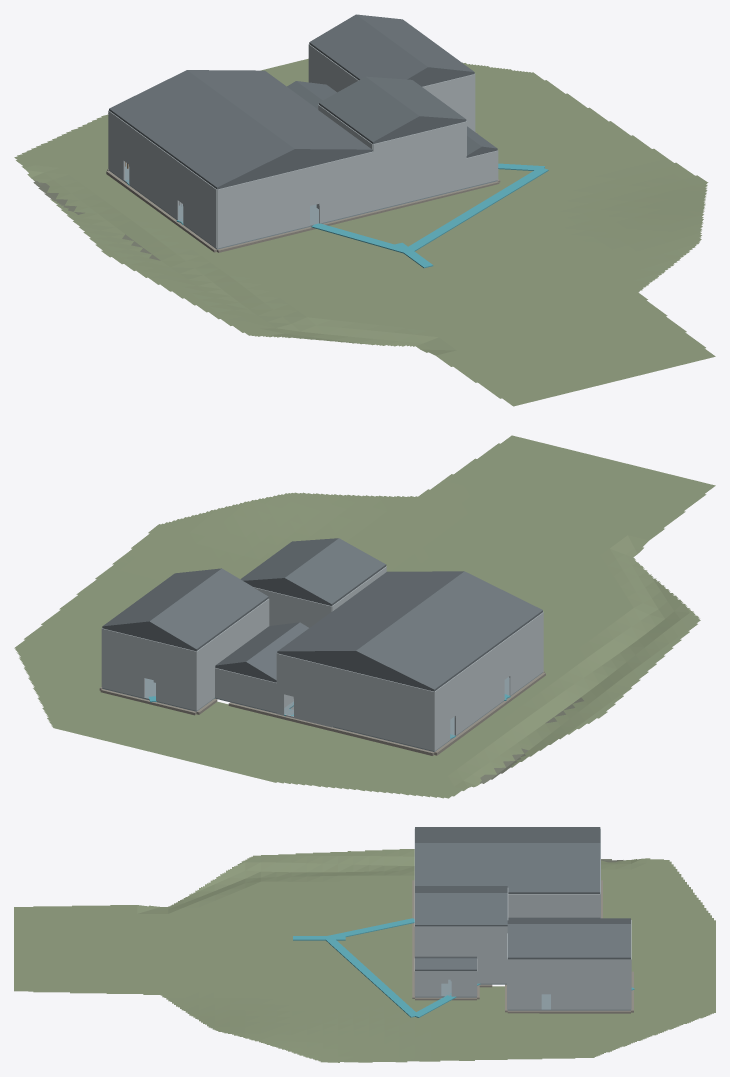
File: enclosed-roofs.glb
The picture shows the model from 3 angles, top to bottom: view 1: azimuth 30°, elevation 25°; view 2: azimuth 150°, elevation 25°; view 3: azimuth 270°, elevation 25°; orthographic projection. The views are drawn at different scales.
Parts seen in each view (by area): view 1: Saved editor macroterrain SCHOOL, teaching roof west, teaching roof east, gym roof west, Wall assembly S, assembly roof west, Wall library S, Wall class-a-store S, gym roof east, Wall dining S, assembly roof east, Wall upper-lobby S (+12 smaller); view 2: Saved editor macroterrain SCHOOL, teaching roof west, teaching roof east, gym roof west, assembly roof west, Flat route shell Wall gym N, Flat route shell Wall gym N.001, Wall class-b N, Wall science N, gym roof east, assembly roof east, Wall library W (+15 smaller); view 3: Saved editor macroterrain SCHOOL, teaching roof east, Flat route shell Wall gym E, gym roof east, assembly roof east, teaching roof west, Wall assembly E, Wall wash-a E, Wall wash-b E, L41 support 1, receiving roof east, Flat route shell Wall gym-link E (+6 smaller).
Part boxes in pixels (<box>): Saved editor macroterrain SCHOOL: <box>14,58,715,406</box>; teaching roof west: <box>109,70,294,189</box>; teaching roof east: <box>187,70,372,151</box>; gym roof west: <box>309,14,427,79</box>; Wall assembly S: <box>373,121,466,180</box>; assembly roof west: <box>319,76,419,143</box>; Wall library S: <box>217,170,295,218</box>; Wall class-a-store S: <box>217,200,295,248</box>; gym roof east: <box>356,14,474,73</box>; Wall dining S: <box>373,166,435,210</box>; assembly roof east: <box>366,76,466,121</box>; Wall upper-lobby S: <box>318,151,373,194</box>; Saved editor macroterrain SCHOOL: <box>14,435,715,798</box>; teaching roof west: <box>356,571,542,690</box>; teaching roof east: <box>277,571,463,653</box>; gym roof west: <box>149,568,268,650</box>; assembly roof west: <box>284,538,386,605</box>; Flat route shell Wall gym N: <box>153,641,196,710</box>; Flat route shell Wall gym N.001: <box>102,628,144,697</box>; Wall class-b N: <box>355,672,434,721</box>; Wall science N: <box>355,702,434,750</box>; gym roof east: <box>102,568,221,627</box>; assembly roof east: <box>240,538,338,582</box>; Wall library W: <box>489,612,543,681</box>; Saved editor macroterrain SCHOOL: <box>14,849,715,1062</box>; teaching roof east: <box>415,843,600,893</box>; Flat route shell Wall gym E: <box>507,959,630,1009</box>; gym roof east: <box>507,924,630,958</box>; assembly roof east: <box>415,893,507,926</box>; teaching roof west: <box>415,827,600,842</box>; Wall assembly E: <box>415,926,507,958</box>; Wall wash-a E: <box>561,894,600,917</box>; Wall wash-b E: <box>523,894,561,917</box>; L41 support 1: <box>325,938,418,1017</box>; receiving roof east: <box>415,958,476,971</box>; Flat route shell Wall gym-link E: <box>477,958,506,983</box>.
Bounding box in the file's own units: 67 × 13.3 × 91.
26 materials, 16 textured.
